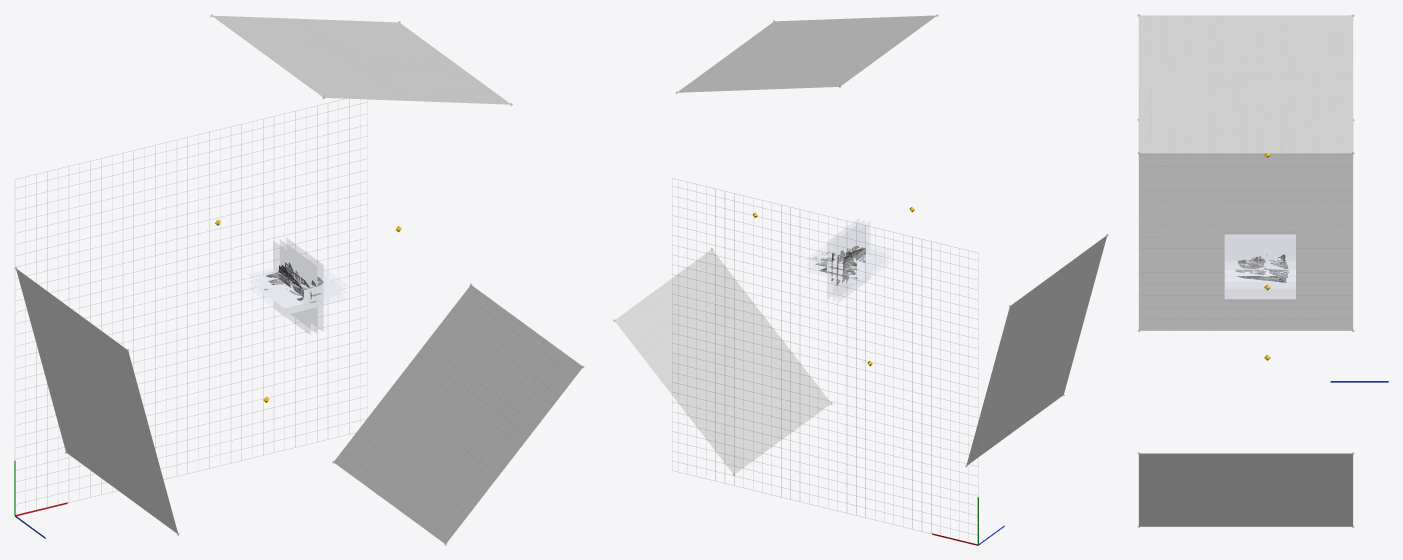
File: pearl3_turntable_shards.obj
3 views of the same model, side by side, from view 1: azimuth 30°, elevation 25°; view 2: azimuth 150°, elevation 25°; view 3: azimuth 270°, elevation 25° (orthographic). The views are drawn at different scales.
Visible parts, largest first — view 1: wall_B, wall_A, wall_C, grid_floor, grid_wallB, panel_F1p2, panel_F0p2, panel_F1p1, panel_F0p1, panel_F0p0, panel_F1p0; view 2: wall_B, wall_A, wall_C, grid_floor, panel_F1p2, panel_F0p2, panel_F1p1, panel_F0p1; view 3: wall_A, wall_C, wall_B, panel_F1p0, panel_F1p1, grid_wallA, panel_F0p2, panel_F0p1, panel_F0p0, panel_F1p2.
Part boxes in pixels (x1,y1,x2,y2): wall_B: (334, 285, 582, 543); wall_A: (16, 269, 177, 533); wall_C: (212, 15, 510, 104); grid_floor: (15, 99, 367, 510); grid_wallB: (334, 285, 582, 543); panel_F1p2: (274, 242, 309, 333); panel_F0p2: (248, 259, 347, 300); panel_F1p1: (280, 240, 316, 332); panel_F0p1: (248, 275, 348, 307); panel_F0p0: (248, 285, 347, 314); panel_F1p0: (287, 239, 322, 330); wall_B: (615, 249, 830, 474); wall_A: (966, 235, 1107, 465); wall_C: (677, 15, 936, 92); grid_floor: (672, 178, 978, 534); panel_F1p2: (839, 222, 869, 301); panel_F0p2: (806, 237, 891, 272); panel_F1p1: (833, 220, 864, 300); panel_F0p1: (806, 250, 891, 278); wall_A: (1139, 153, 1352, 330); wall_C: (1139, 15, 1352, 153); wall_B: (1139, 453, 1352, 526); panel_F1p0: (1225, 238, 1295, 301); panel_F1p1: (1225, 235, 1295, 298); grid_wallA: (1139, 154, 1352, 330); panel_F0p2: (1225, 261, 1295, 274); panel_F0p1: (1225, 271, 1295, 281); panel_F0p0: (1225, 277, 1295, 287); panel_F1p2: (1225, 232, 1295, 236).
Size of the model in its own units: 4245 by 4245 by 2115.
